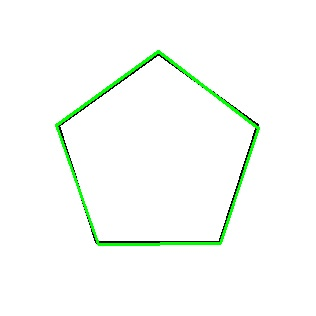line_segment: (56, 51, 259, 245)
